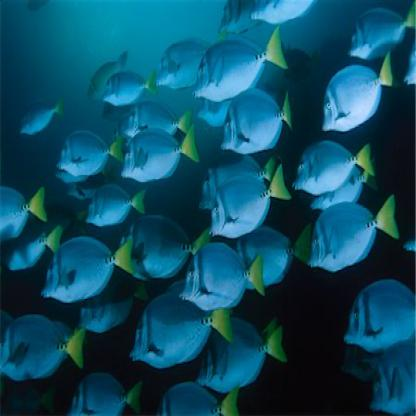Acanthuridae -Surgeonfishes-: (124, 284, 232, 372), (193, 23, 293, 104), (303, 198, 404, 275), (197, 314, 292, 390), (38, 229, 134, 302), (1, 307, 92, 384), (206, 163, 292, 238), (177, 242, 269, 308), (321, 52, 394, 132), (343, 274, 416, 352), (218, 85, 298, 154), (294, 139, 384, 192), (348, 1, 416, 63), (51, 126, 124, 179), (103, 61, 167, 109), (85, 182, 149, 219)
